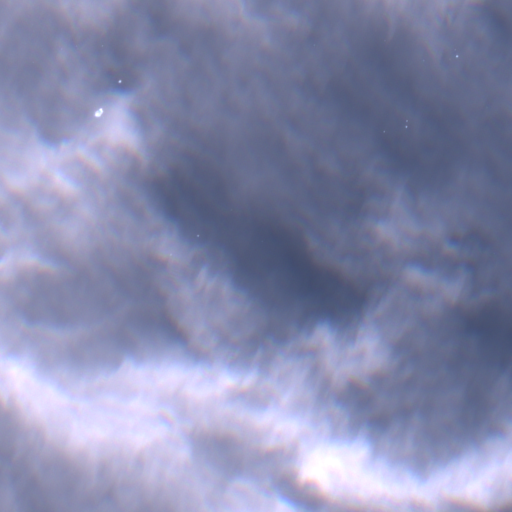Iceberg: (95, 108, 102, 116), (118, 80, 121, 82), (456, 55, 458, 57), (405, 125, 407, 127), (406, 120, 407, 121), (383, 131, 384, 132), (197, 235, 198, 236)
